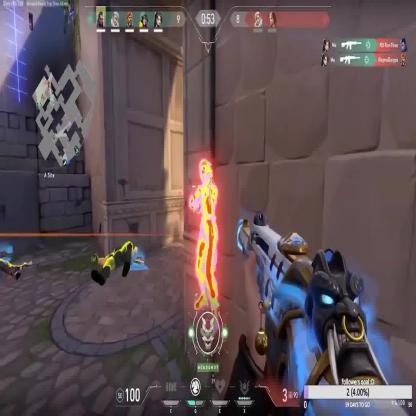enemy: (188, 158, 222, 315)
enemy_head: (199, 158, 213, 186)
